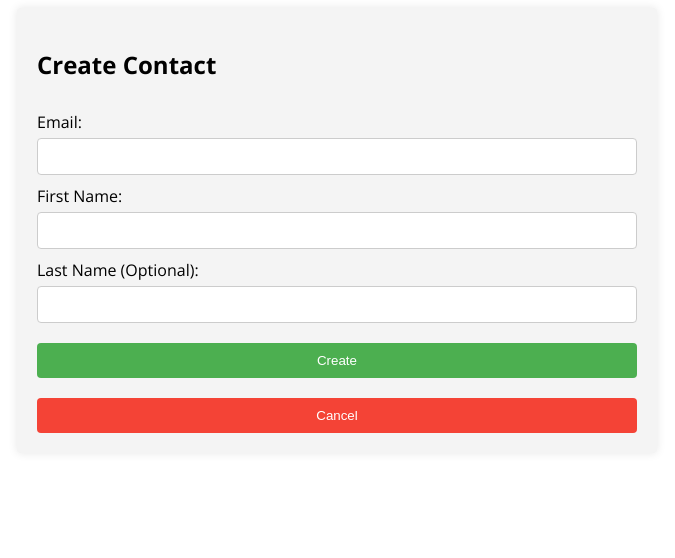
CreateContactPage Component › Gives the correct error message when email is not unique
This screenshot has width=675, height=558.
In the field labelled "Email:": (337, 156) [37,138,637,175], type "sdmn@example.com"
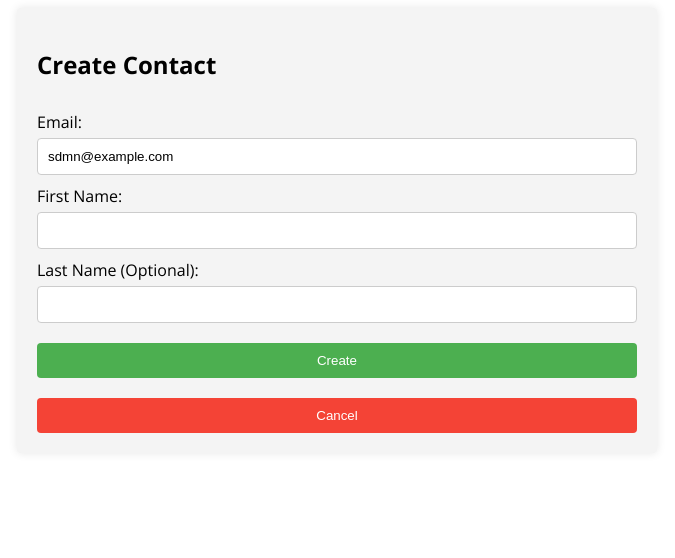
In the field labelled "First Name:": (337, 230) [37,212,637,249], type "bbbbbbbbbbbbbbbbbbbbbbbbbbbbbbb"
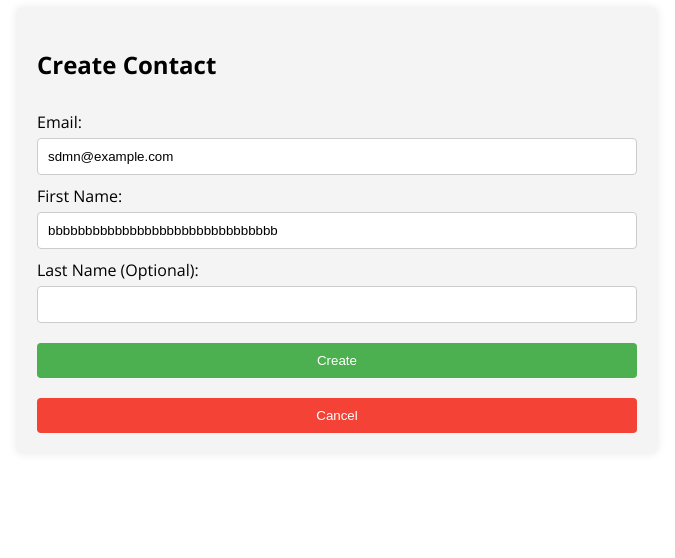
Click the button "Create": (337, 360) [37,343,637,378]
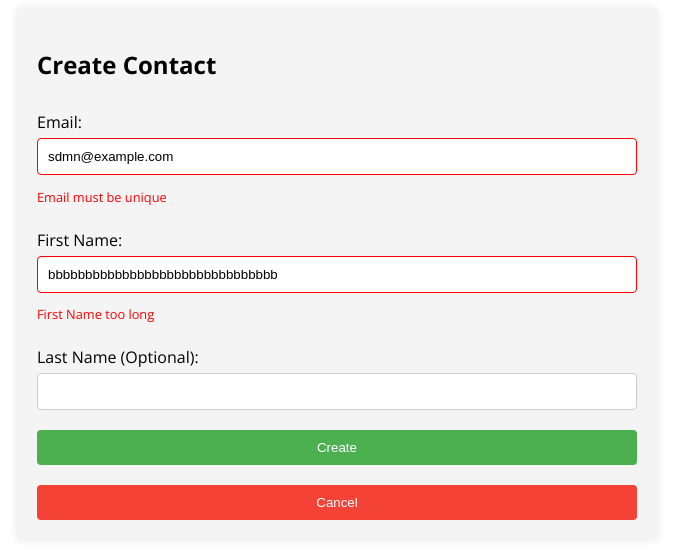
Expected: the text "Email must be unique" is shown, [37,188,167,206]
